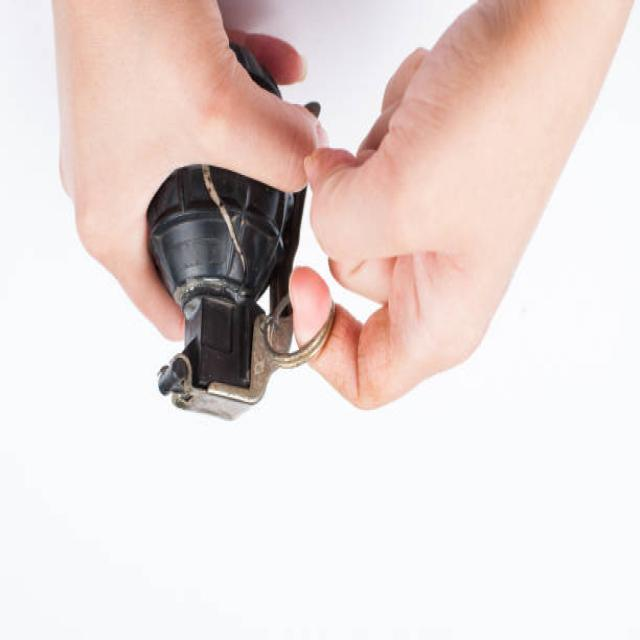grenade: (144, 48, 339, 425)
